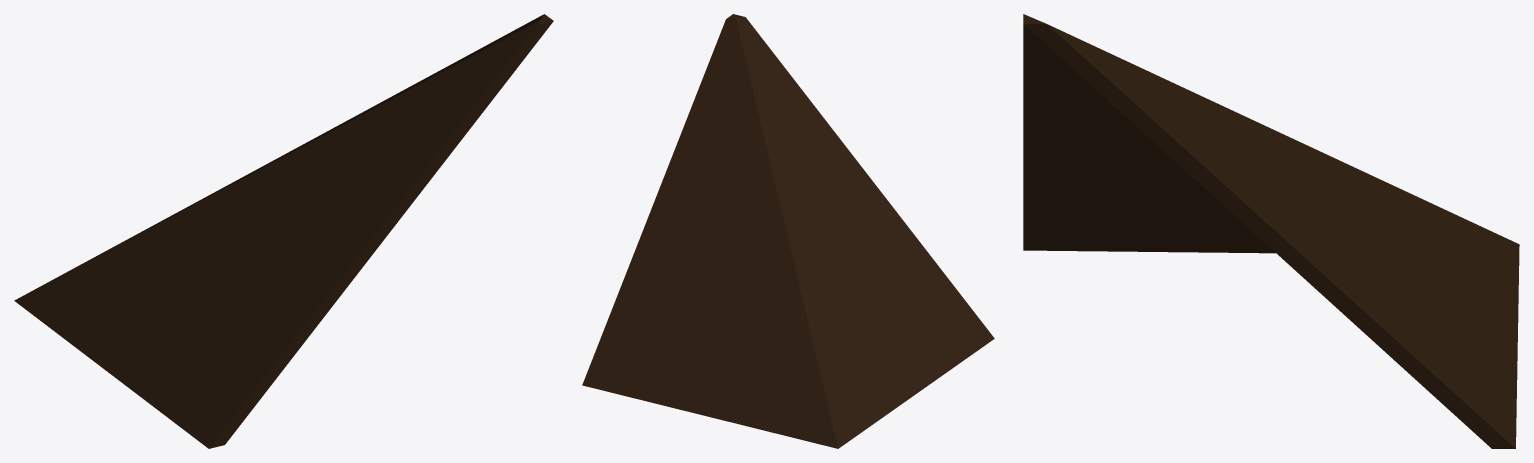
The model's file is RoofOuterCorner_DP_0910.fbx.
3 views of the same model, side by side, from view 1: azimuth 30°, elevation 25°; view 2: azimuth 150°, elevation 25°; view 3: azimuth 270°, elevation 25° (orthographic). The views are drawn at different scales.
Parts seen in each view (by area): view 1: RoofCurveBack.002; view 2: RoofCurveBack.002; view 3: RoofCurveBack.002.
Boxes of the visible parts, box(x1,y1,x2,y2) form: RoofCurveBack.002: box(14, 14, 553, 448); RoofCurveBack.002: box(582, 14, 994, 448); RoofCurveBack.002: box(1023, 14, 1519, 448).
Size of the model in its own units: 420 by 400 by 423.
